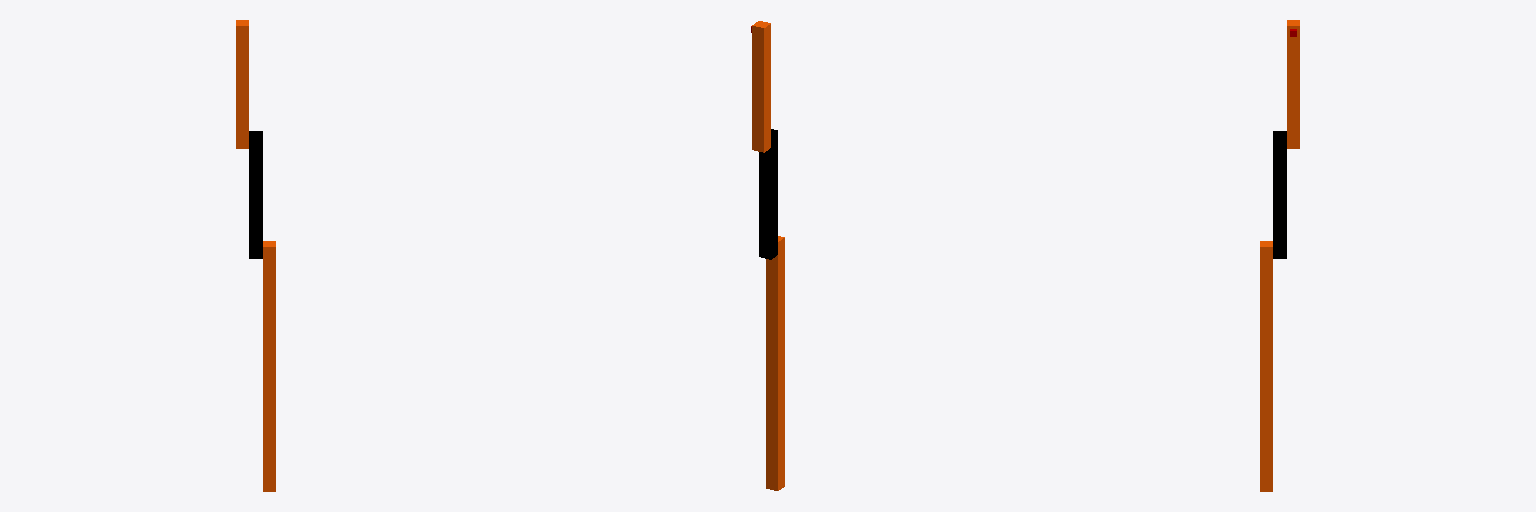
robot.urdf — rrbot:
<?xml version="1.0" ?>
<!-- =================================================================================== -->
<!-- |    This document was autogenerated by xacro from rrbot.xacro                    | -->
<!-- |    EDITING THIS FILE BY HAND IS NOT RECOMMENDED                                 | -->
<!-- =================================================================================== -->
<!-- Revolute-Revolute Manipulator -->
<robot name="rrbot">
  <!-- Space btw top of beam and the each joint -->
  <!-- ros_control plugin -->



  <!-- Link1 -->
  <gazebo reference="link1">
    <material>Gazebo/Orange</material>
  </gazebo>
  <!-- Link2 -->
  <gazebo reference="link2">
    <mu1>0.2</mu1>
    <mu2>0.2</mu2>
    <material>Gazebo/Black</material>
  </gazebo>
  <!-- Link3 -->
  <gazebo reference="link3">
    <mu1>0.2</mu1>
    <mu2>0.2</mu2>
    <material>Gazebo/Orange</material>
  </gazebo>
  <!-- camera_link -->
  <gazebo reference="camera_link">
    <mu1>0.2</mu1>
    <mu2>0.2</mu2>
    <material>Gazebo/Red</material>
  </gazebo>
  <!-- hokuyo -->
  <gazebo reference="hokuyo_link">
    <sensor name="head_hokuyo_sensor" type="gpu_ray">
      <pose>0 0 0 0 0 0</pose>
      <visualize>false</visualize>
      <update_rate>40</update_rate>
      <ray>
        <scan>
          <horizontal>
            <samples>720</samples>
            <resolution>1</resolution>
            <min_angle>-1.570796</min_angle>
            <max_angle>1.570796</max_angle>
          </horizontal>
        </scan>
        <range>
          <min>0.10</min>
          <max>30.0</max>
          <resolution>0.01</resolution>
        </range>
        <noise>
          <type>gaussian</type>
          <!-- Noise parameters based on published spec for Hokuyo laser
               achieving "+-30mm" accuracy at range < 10m.  A mean of 0.0m and
               stddev of 0.01m will put 99.7% of samples within 0.03m of the true
               reading. -->
          <mean>0.0</mean>
          <stddev>0.01</stddev>
        </noise>
      </ray>

    </sensor>
  </gazebo>
  <!-- camera -->
  <gazebo reference="camera_link">
    <sensor name="camera1" type="camera">
      <update_rate>30.0</update_rate>
      <camera name="head">
        <horizontal_fov>1.3962634</horizontal_fov>
        <image>
          <width>800</width>
          <height>800</height>
          <format>R8G8B8</format>
        </image>
        <clip>
          <near>0.02</near>
          <far>300</far>
        </clip>
        <noise>
          <type>gaussian</type>
          <!-- Noise is sampled independently per pixel on each frame.
               That pixel's noise value is added to each of its color
               channels, which at that point lie in the range [0,1]. -->
          <mean>0.0</mean>
          <stddev>0.007</stddev>
        </noise>
      </camera>

    </sensor>
  </gazebo>
  <material name="black">
    <color rgba="0.0 0.0 0.0 1.0"/>
  </material>
  <material name="blue">
    <color rgba="0.0 0.0 0.8 1.0"/>
  </material>
  <material name="green">
    <color rgba="0.0 0.8 0.0 1.0"/>
  </material>
  <material name="grey">
    <color rgba="0.2 0.2 0.2 1.0"/>
  </material>
  <material name="orange">
    <color rgba="1.0 0.4235294117647059 0.0392156862745098 1.0"/>
  </material>
  <material name="brown">
    <color rgba="0.8705882352941177 0.8117647058823529 0.7647058823529411 1.0"/>
  </material>
  <material name="red">
    <color rgba="0.8 0.0 0.0 1.0"/>
  </material>
  <material name="white">
    <color rgba="1.0 1.0 1.0 1.0"/>
  </material>
  <!-- Used for fixing robot to Gazebo 'base_link' -->
  <link name="world"/>
  <joint name="fixed" type="fixed">
    <parent link="world"/>
    <child link="link1"/>
  </joint>
  <!-- Base Link -->
  <link name="link1">
    <collision>
      <origin rpy="0 0 0" xyz="0 0 1.0"/>
      <geometry>
        <box size="0.1 0.1 2"/>
      </geometry>
    </collision>
    <visual>
      <origin rpy="0 0 0" xyz="0 0 1.0"/>
      <geometry>
        <box size="0.1 0.1 2"/>
      </geometry>
      <material name="orange"/>
    </visual>
    <inertial>
      <origin rpy="0 0 0" xyz="0 0 1.0"/>
      <mass value="1"/>
      <inertia ixx="0.3341666666666666" ixy="0.0" ixz="0.0" iyy="0.3341666666666666" iyz="0.0" izz="0.001666666666666667"/>
    </inertial>
  </link>
  <joint name="joint1" type="continuous">
    <parent link="link1"/>
    <child link="link2"/>
    <origin rpy="0 0 0" xyz="0 0.1 1.95"/>
    <axis xyz="0 1 0"/>
    <dynamics damping="0.7"/>
  </joint>
  <!-- Middle Link -->
  <link name="link2">
    <collision>
      <origin rpy="0 0 0" xyz="0 0 0.45"/>
      <geometry>
        <box size="0.1 0.1 1"/>
      </geometry>
    </collision>
    <visual>
      <origin rpy="0 0 0" xyz="0 0 0.45"/>
      <geometry>
        <box size="0.1 0.1 1"/>
      </geometry>
      <material name="black"/>
    </visual>
    <inertial>
      <origin rpy="0 0 0" xyz="0 0 0.45"/>
      <mass value="1"/>
      <inertia ixx="0.08416666666666667" ixy="0.0" ixz="0.0" iyy="0.08416666666666667" iyz="0.0" izz="0.001666666666666667"/>
    </inertial>
  </link>
  <joint name="joint2" type="continuous">
    <parent link="link2"/>
    <child link="link3"/>
    <origin rpy="0 0 0" xyz="0 0.1 0.9"/>
    <axis xyz="0 1 0"/>
    <dynamics damping="0.7"/>
  </joint>
  <!-- Top Link -->
  <link name="link3">
    <collision>
      <origin rpy="0 0 0" xyz="0 0 0.45"/>
      <geometry>
        <box size="0.1 0.1 1"/>
      </geometry>
    </collision>
    <visual>
      <origin rpy="0 0 0" xyz="0 0 0.45"/>
      <geometry>
        <box size="0.1 0.1 1"/>
      </geometry>
      <material name="orange"/>
    </visual>
    <inertial>
      <origin rpy="0 0 0" xyz="0 0 0.45"/>
      <mass value="1"/>
      <inertia ixx="0.08416666666666667" ixy="0.0" ixz="0.0" iyy="0.08416666666666667" iyz="0.0" izz="0.001666666666666667"/>
    </inertial>
  </link>
  <joint name="hokuyo_joint" type="fixed">
    <axis xyz="0 1 0"/>
    <origin rpy="0 0 0" xyz="0 0 0.975"/>
    <parent link="link3"/>
    <child link="hokuyo_link"/>
  </joint>
  <!-- Hokuyo Laser -->
  <link name="hokuyo_link">
    <collision>
      <origin rpy="0 0 0" xyz="0 0 0"/>
      <geometry>
        <box size="0.1 0.1 0.1"/>
      </geometry>
    </collision>
    <visual>
      <origin rpy="0 0 0" xyz="0 0 0"/>
      <geometry>
        <mesh filename="package://rrbot_description/meshes/hokuyo.dae"/>
      </geometry>
    </visual>
    <inertial>
      <mass value="1e-5"/>
      <origin rpy="0 0 0" xyz="0 0 0"/>
      <inertia ixx="1e-6" ixy="0" ixz="0" iyy="1e-6" iyz="0" izz="1e-6"/>
    </inertial>
  </link>
  <joint name="camera_joint" type="fixed">
    <axis xyz="0 1 0"/>
    <origin rpy="0 0 0" xyz="0.05 0 0.9"/>
    <parent link="link3"/>
    <child link="camera_link"/>
  </joint>
  <!-- Camera -->
  <link name="camera_link">
    <collision>
      <origin rpy="0 0 0" xyz="0 0 0"/>
      <geometry>
        <box size="0.05 0.05 0.05"/>
      </geometry>
    </collision>
    <visual>
      <origin rpy="0 0 0" xyz="0 0 0"/>
      <geometry>
        <box size="0.05 0.05 0.05"/>
      </geometry>
      <material name="red"/>
    </visual>
    <inertial>
      <mass value="1e-5"/>
      <origin rpy="0 0 0" xyz="0 0 0"/>
      <inertia ixx="1e-6" ixy="0" ixz="0" iyy="1e-6" iyz="0" izz="1e-6"/>
    </inertial>
  </link>
  <!-- generate an optical frame http://www.ros.org/reps/rep-0103.html#suffix-frames
      so that ros and opencv can operate on the camera frame correctly -->
  <joint name="camera_optical_joint" type="fixed">
    <!-- these values have to be these values otherwise the gazebo camera image
        won't be aligned properly with the frame it is supposedly originating from -->
    <origin rpy="-1.5707963267948966 0 -1.5707963267948966" xyz="0 0 0"/>
    <parent link="camera_link"/>
    <child link="camera_link_optical"/>
  </joint>
  <link name="camera_link_optical">
  </link>
  <transmission name="tran1">
    <type>transmission_interface/SimpleTransmission</type>
    <joint name="joint1">
      <hardwareInterface>hardware_interface/EffortJointInterface</hardwareInterface>
    </joint>
    <actuator name="motor1">
      <hardwareInterface>hardware_interface/EffortJointInterface</hardwareInterface>
      <mechanicalReduction>1</mechanicalReduction>
    </actuator>
  </transmission>
  <transmission name="tran2">
    <type>transmission_interface/SimpleTransmission</type>
    <joint name="joint2">
      <hardwareInterface>hardware_interface/EffortJointInterface</hardwareInterface>
    </joint>
    <actuator name="motor2">
      <hardwareInterface>hardware_interface/EffortJointInterface</hardwareInterface>
      <mechanicalReduction>1</mechanicalReduction>
    </actuator>
  </transmission>
</robot>

--- What the picture shows (computed from the rendered views, not written in the file) ---
The picture shows the robot from 3 angles, left to right: view 1: azimuth 90°, elevation 25°; view 2: azimuth 150°, elevation 25°; view 3: azimuth 270°, elevation 25°; orthographic projection.
Robot: rrbot — 7 links, 6 joints (2 continuous, 4 fixed); root link world; default pose: all joints at 0.
Links seen in each view (by area): view 1: link1, link2, link3; view 2: link1, link3, link2; view 3: link1, link2, link3.
Link boxes in pixels (x1,y1,x2,y2): link1: (263, 241, 275, 491); link2: (249, 131, 262, 258); link3: (236, 20, 248, 148); link1: (766, 236, 784, 490); link3: (752, 21, 770, 152); link2: (759, 129, 777, 259); link1: (1260, 241, 1272, 491); link2: (1273, 131, 1286, 258); link3: (1287, 20, 1299, 148).
Bounding box of the posed robot: 0.125 × 0.3 × 3.8 m (x, y, z).
Meshes: 1 distinct files referenced, 0 mesh visuals loaded (none loaded); not drawn: 1 (reference not matched to a file when rendering).
